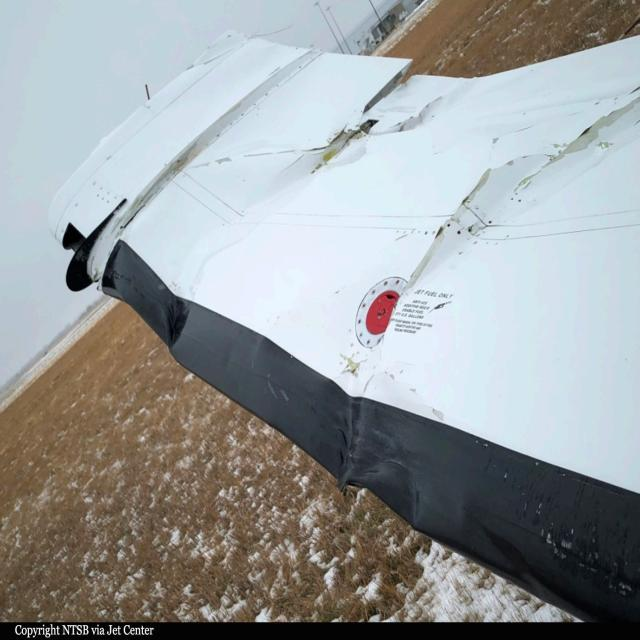crack: (311, 57, 444, 178), (517, 94, 640, 195), (405, 168, 497, 287)
